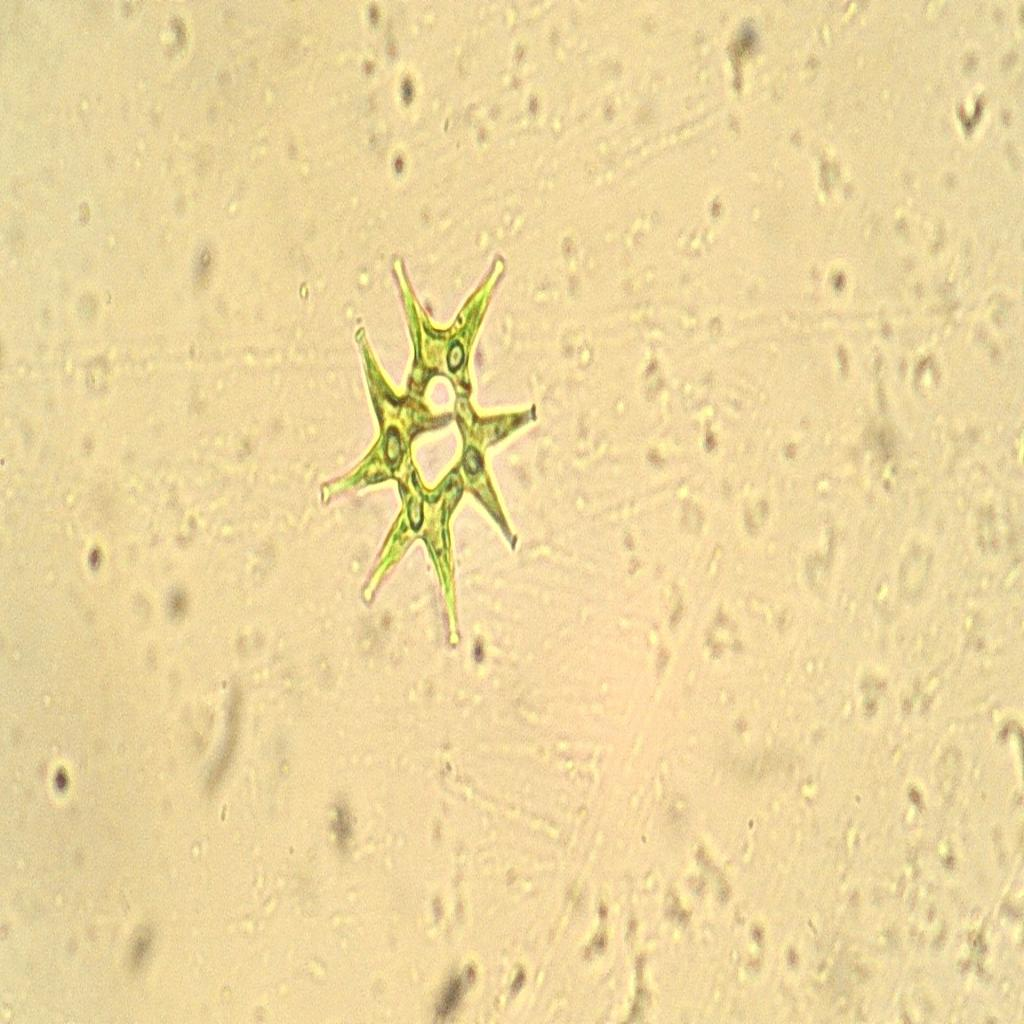Pediastrum_CF: (317, 226, 540, 690)
